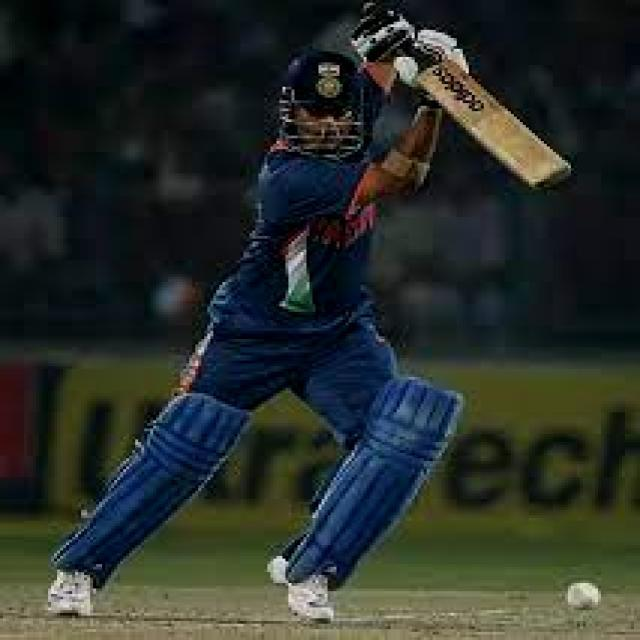bat: (416, 60, 577, 191)
toe: (533, 172, 575, 187)
